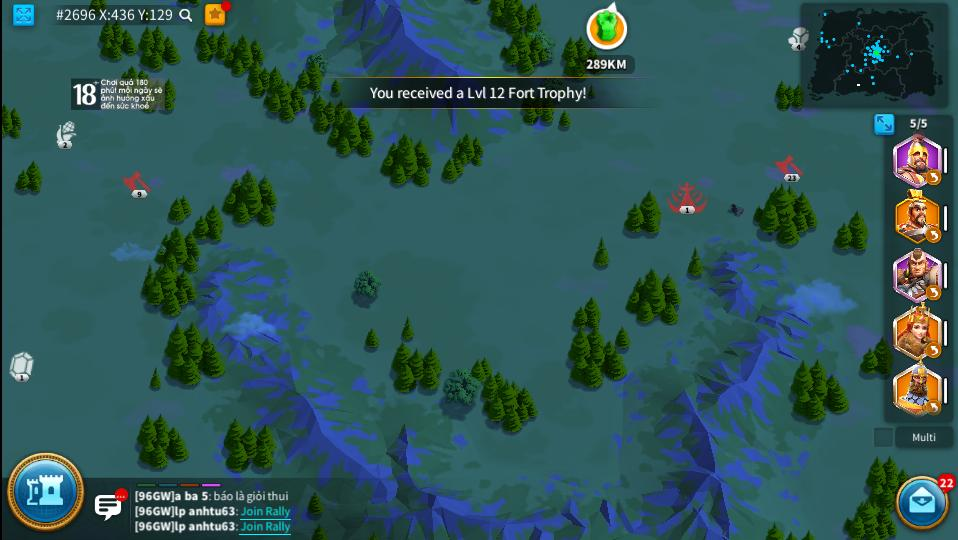gem-z-out: (10, 353, 35, 383)
march_returning: (925, 228, 942, 242), (926, 170, 940, 185), (927, 400, 941, 415), (926, 285, 940, 299), (928, 343, 940, 357)
